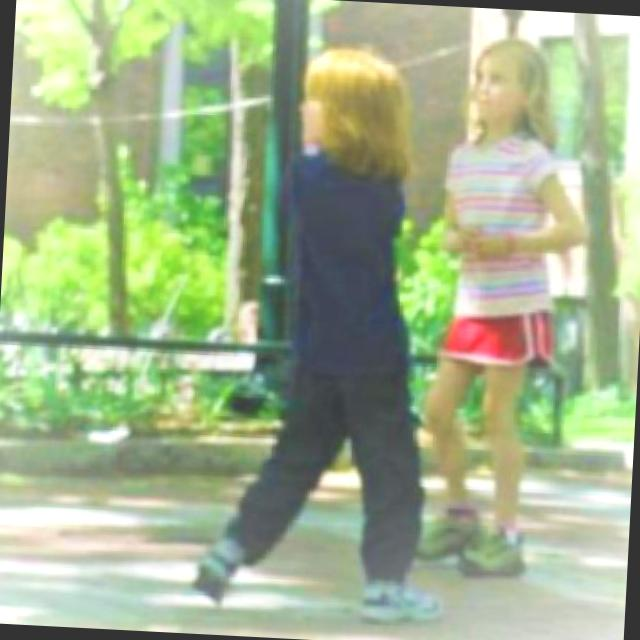Person: (186, 36, 478, 627), (413, 25, 602, 587)
